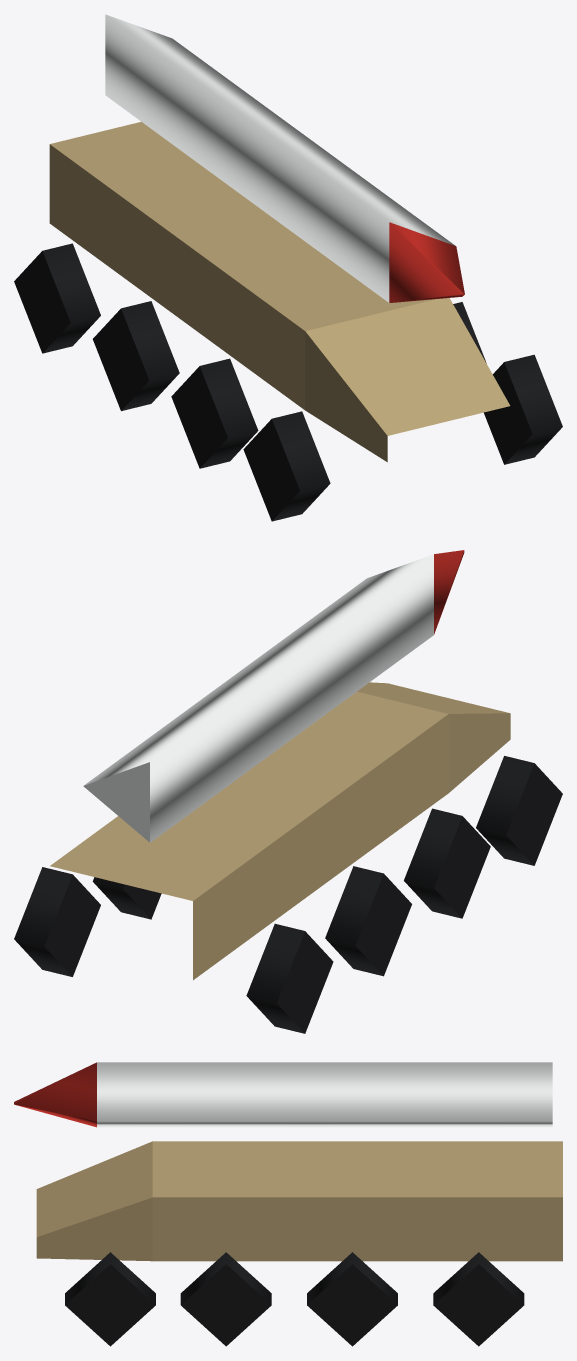
File: veh_ground_missile_carrier_a07_lod2.glb
3 views of the same model, one above another, from view 1: azimuth 30°, elevation 25°; view 2: azimuth 150°, elevation 25°; view 3: azimuth 270°, elevation 25° (orthographic). The views are drawn at different scales.
Visible parts, largest first — view 1: body, launcher, wheel_0, wheel_4, wheel_2, wheel_6, wheel_7; view 2: body, launcher, wheel_4, wheel_0, wheel_2, wheel_1, wheel_6, wheel_3; view 3: body, launcher, wheel_1, wheel_5, wheel_3, wheel_7.
Part boxes in pixels (left/top/right/bottom): body: left=49, top=121, right=510, bottom=462; launcher: left=105, top=14, right=464, bottom=302; wheel_0: left=14, top=243, right=100, bottom=353; wheel_4: left=171, top=358, right=258, bottom=468; wheel_2: left=92, top=301, right=179, bottom=411; wheel_6: left=243, top=411, right=330, bottom=521; wheel_7: left=484, top=354, right=562, bottom=464; body: left=50, top=682, right=510, bottom=980; launcher: left=83, top=550, right=464, bottom=842; wheel_4: left=404, top=808, right=490, bottom=918; wheel_0: left=246, top=923, right=333, bottom=1033; wheel_2: left=325, top=866, right=411, bottom=976; wheel_1: left=14, top=867, right=100, bottom=976; wheel_6: left=476, top=756, right=562, bottom=865; wheel_3: left=92, top=877, right=161, bottom=919; body: left=36, top=1141, right=562, bottom=1261; launcher: left=14, top=1062, right=552, bottom=1127; wheel_1: left=433, top=1252, right=524, bottom=1346; wheel_5: left=180, top=1252, right=271, bottom=1346; wheel_3: left=307, top=1252, right=397, bottom=1346; wheel_7: left=65, top=1252, right=155, bottom=1346.
Size of the model in its own units: 2.94 by 2.98 by 6.62.
